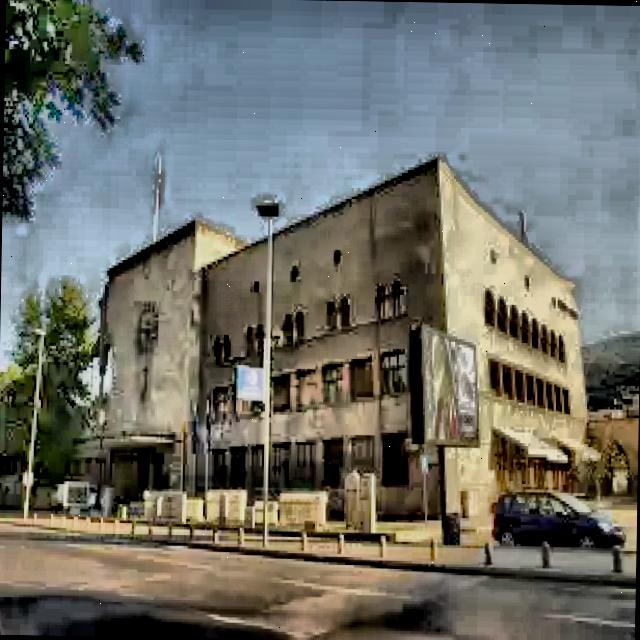old railway: (74, 146, 612, 505)
